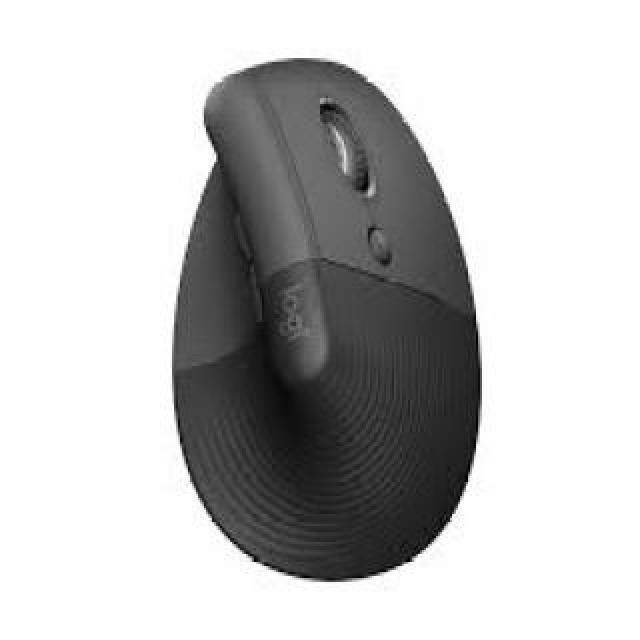mouse: (174, 0, 518, 598)
